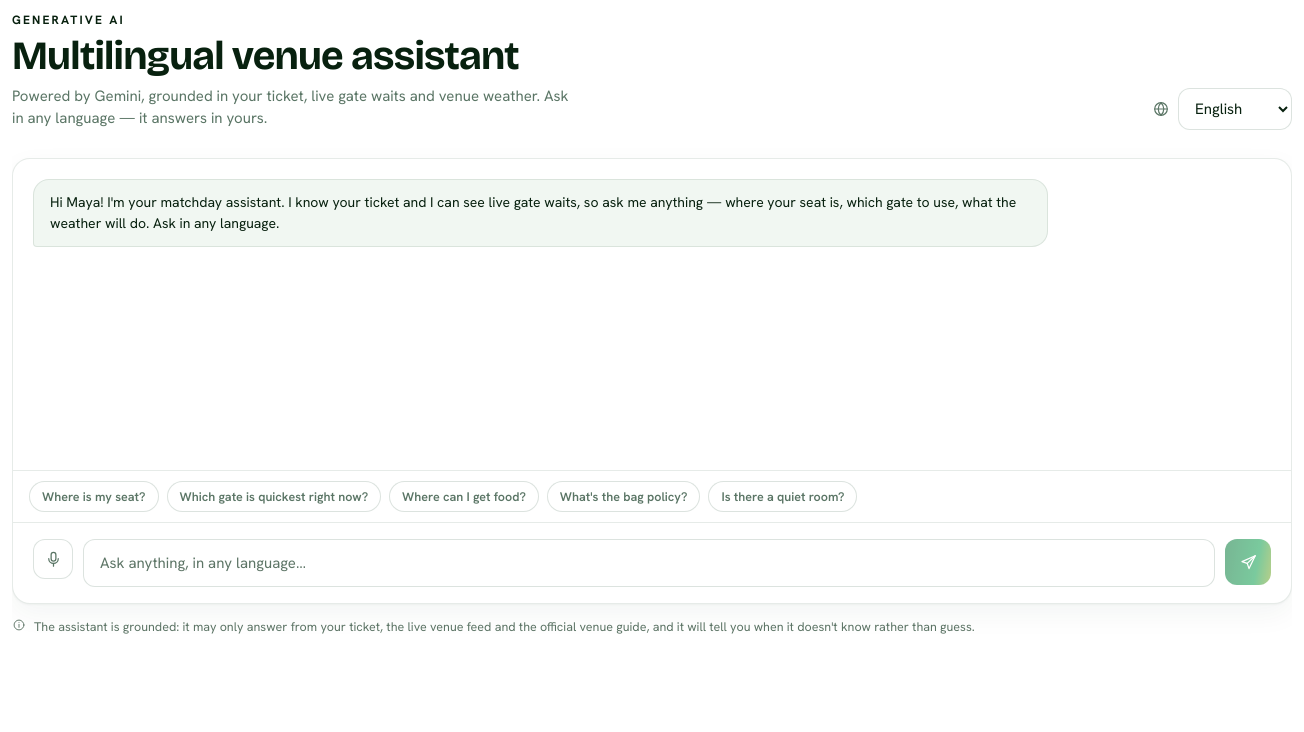
Scenario: FanConcierge › grounds every question in the ticket, live gates and accessibility needs
Click the button "Which gate is quickest right now?" at (274, 497), box x1=166 y1=481 x2=381 y2=512
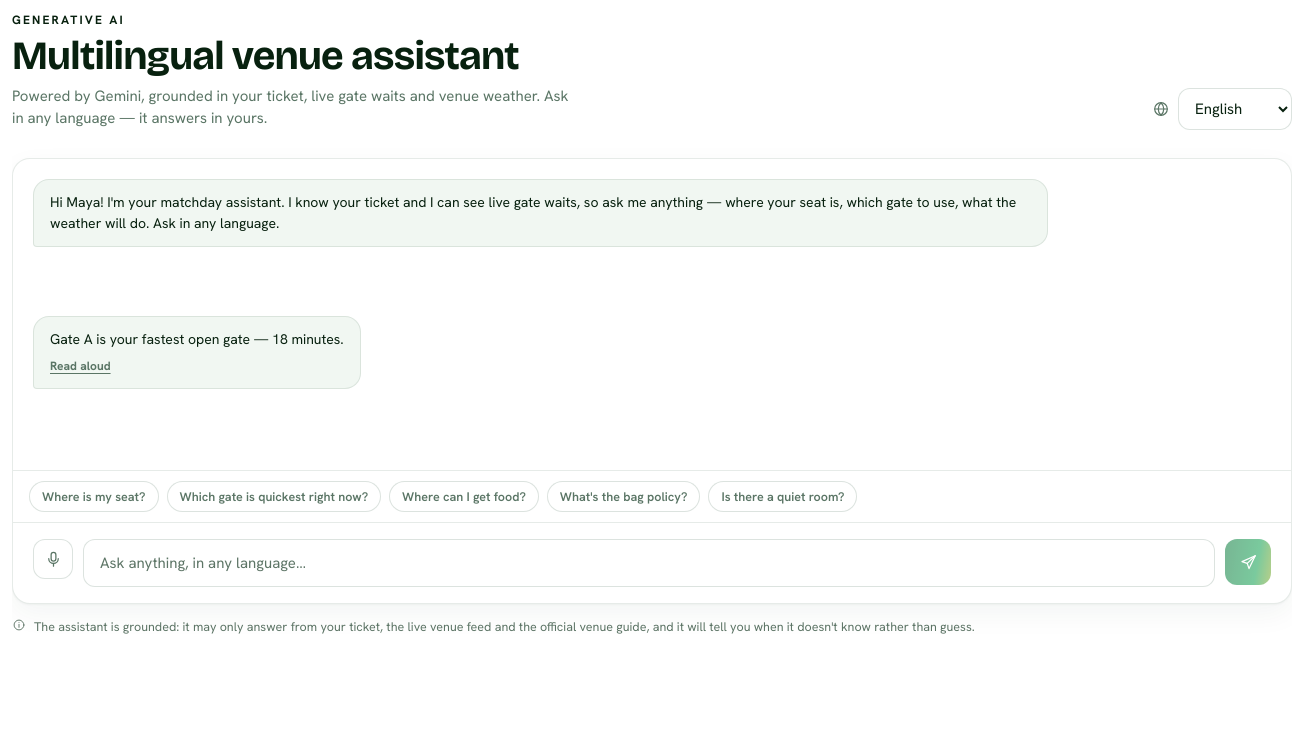
Expected: the text "Gate A is your fastest open gate — 18 minutes." is shown, x1=50 y1=329 x2=344 y2=350
